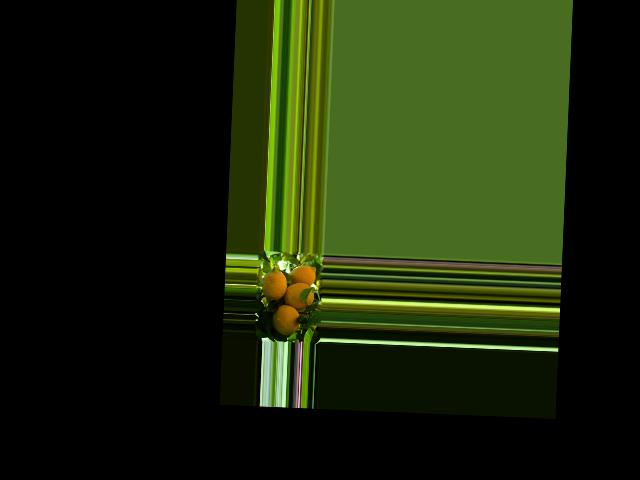lemon: (270, 304, 304, 337)
